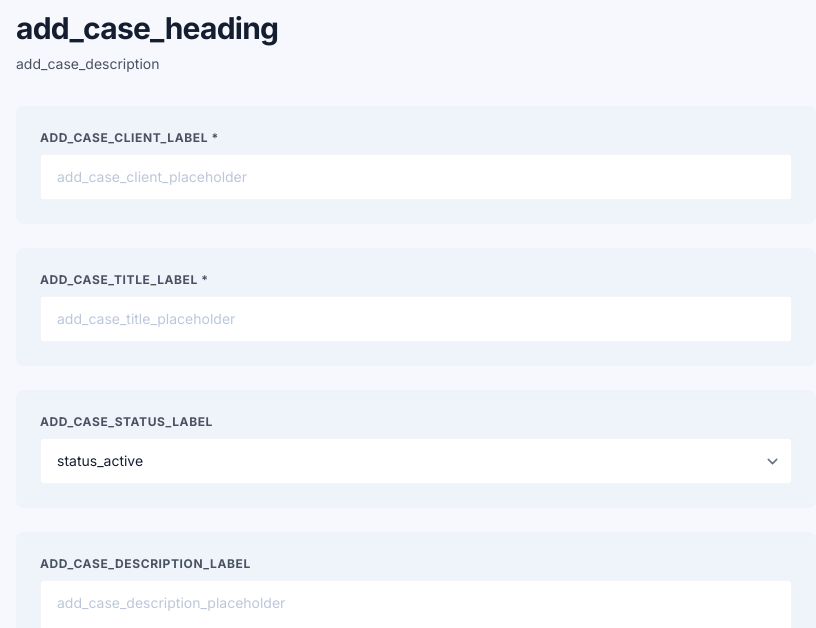
Test: AddCase component › filters users based on search query
Type "John" into the field with placeholder "add_case_client_placeholder" at (416, 177), box [40,154,792,200]
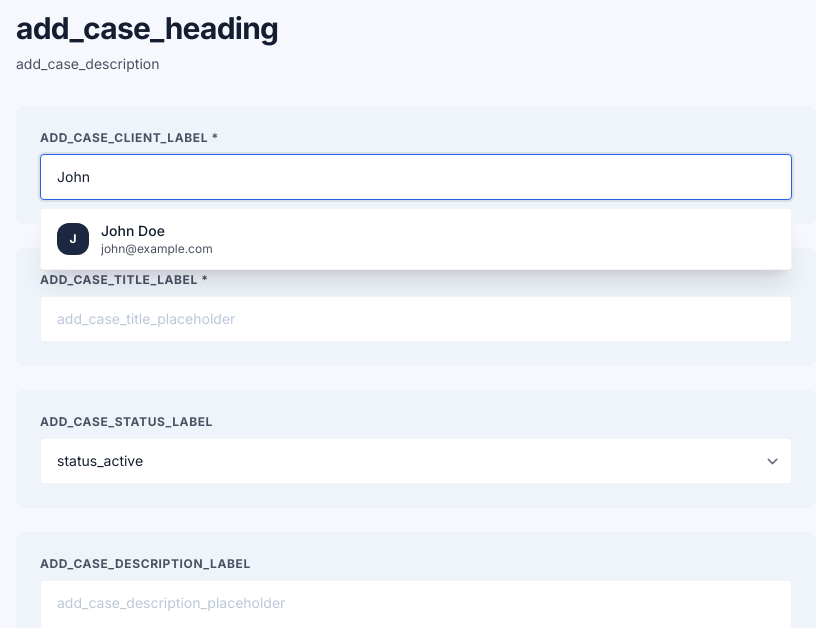
Now the text "John Doe" is shown, box [101,222,165,239]
